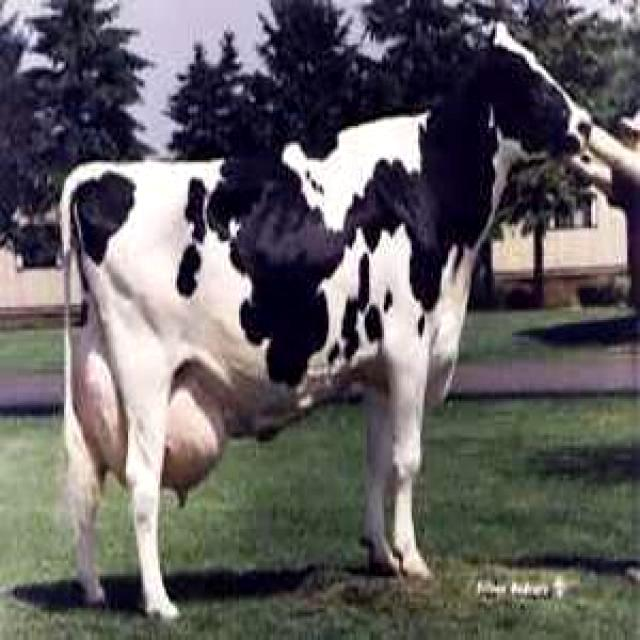COW: (61, 24, 598, 618)
